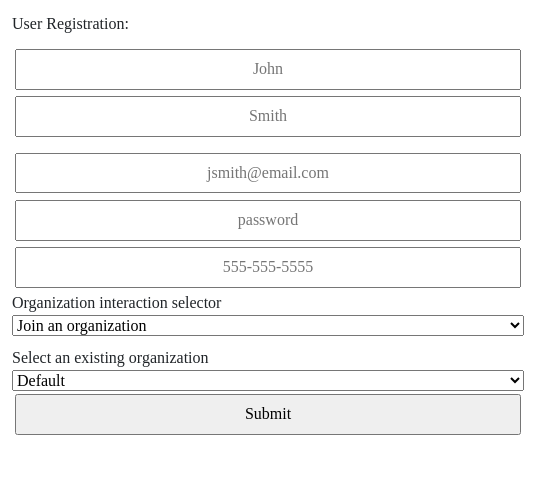
Scenario: RegistrationPage › RegistrationPage: Invalid email input
Note: input text into emailInput
Step 1. Type "invalid" into the field with placeholder "jsmith@email.com" → [268, 173], box x1=15 y1=153 x2=521 y2=194
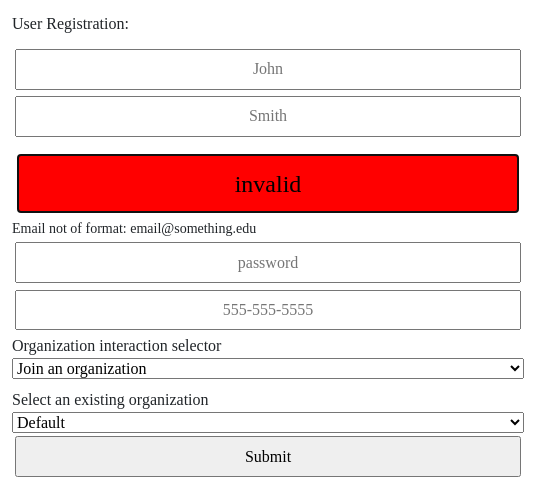
Check: the text with test id "emailErrorMessage" reads "Email not of format: email@something.edu", box x1=12 y1=221 x2=256 y2=236
